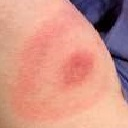Hives: (60, 48, 96, 80)
